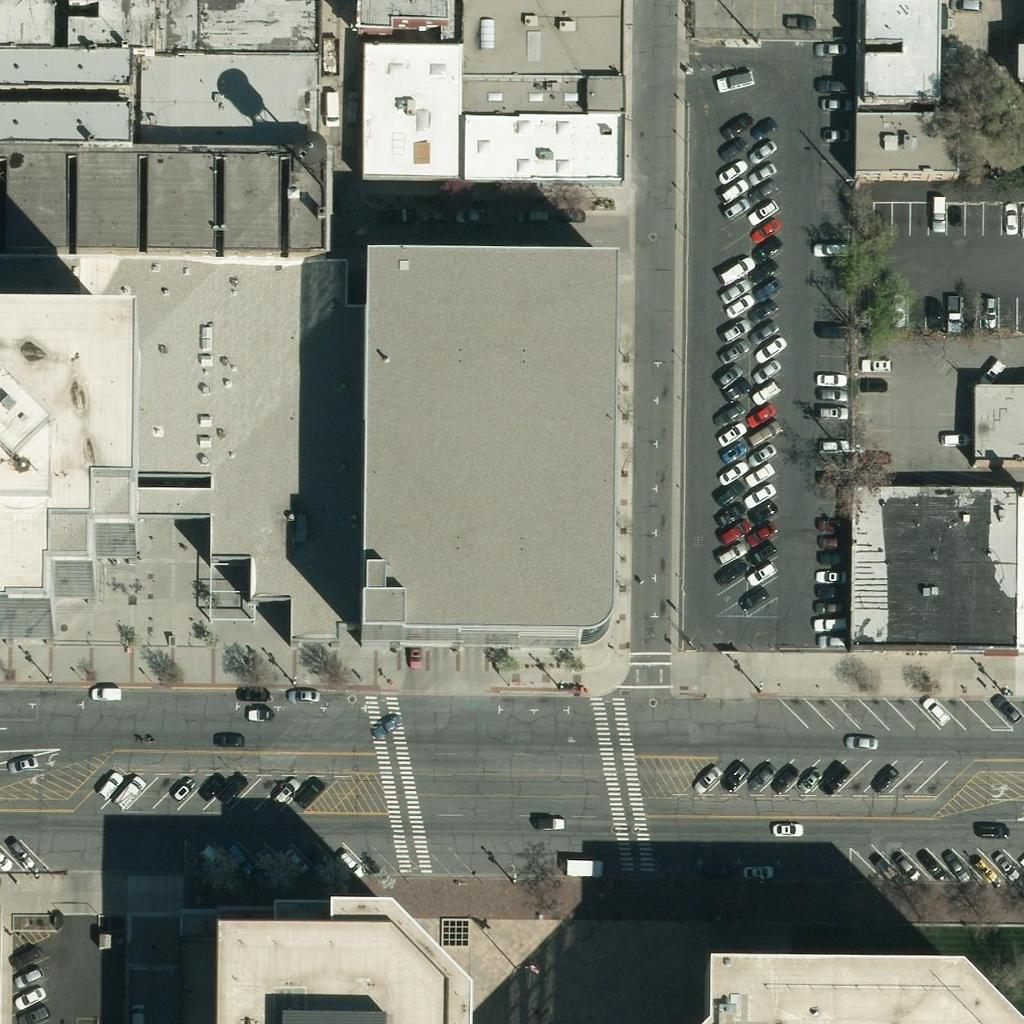car: (783, 4, 817, 38), (813, 31, 847, 65), (717, 62, 751, 96), (817, 67, 851, 101), (817, 86, 851, 120), (333, 87, 367, 121), (312, 92, 346, 126), (746, 109, 780, 143), (717, 110, 751, 144), (820, 116, 854, 150), (713, 132, 747, 166), (743, 133, 777, 167), (714, 153, 748, 187), (744, 154, 778, 188), (716, 173, 750, 207), (745, 173, 779, 207), (719, 190, 753, 224), (747, 192, 781, 226), (551, 196, 585, 230), (418, 197, 452, 231), (518, 197, 552, 231), (937, 197, 971, 231), (381, 198, 415, 232), (458, 198, 492, 232), (922, 198, 956, 232), (748, 211, 782, 245), (749, 230, 783, 264), (813, 231, 847, 265), (719, 252, 753, 286), (744, 254, 778, 288), (748, 271, 782, 305), (718, 272, 752, 306), (722, 287, 756, 321), (744, 292, 778, 326), (880, 292, 914, 326), (972, 295, 1006, 329), (917, 296, 951, 330), (939, 298, 973, 332), (816, 313, 850, 347), (716, 314, 750, 348), (746, 314, 780, 348), (752, 331, 786, 365), (715, 333, 749, 367), (857, 346, 891, 380), (749, 353, 783, 387), (976, 356, 1010, 390), (710, 359, 744, 393), (813, 361, 847, 395), (852, 366, 886, 400), (720, 372, 754, 406), (750, 373, 784, 407), (811, 376, 845, 410), (815, 393, 849, 427), (744, 395, 778, 429), (712, 396, 746, 430), (714, 413, 748, 447), (747, 415, 781, 449), (935, 421, 969, 455), (816, 428, 850, 462), (717, 433, 751, 467), (743, 437, 777, 471), (856, 439, 890, 473), (715, 456, 749, 490), (743, 456, 777, 490), (814, 458, 848, 492), (711, 475, 745, 509), (742, 476, 776, 510), (712, 495, 746, 529), (748, 495, 782, 529), (816, 506, 850, 540), (716, 514, 750, 548), (745, 517, 779, 551), (817, 523, 851, 557), (745, 535, 779, 569), (714, 536, 748, 570), (817, 539, 851, 573), (714, 554, 748, 588), (746, 555, 780, 589), (814, 557, 848, 591), (815, 573, 849, 607), (737, 579, 771, 613), (817, 589, 851, 623), (816, 606, 850, 640), (812, 623, 846, 657), (397, 634, 431, 668), (87, 674, 121, 708), (232, 674, 266, 708), (284, 676, 318, 710), (918, 693, 952, 727), (241, 694, 275, 728), (371, 707, 405, 741), (210, 720, 244, 754), (845, 724, 879, 758), (5, 746, 39, 780), (745, 756, 779, 790), (717, 759, 751, 793), (768, 759, 802, 793), (793, 760, 827, 794), (817, 760, 851, 794), (866, 760, 900, 794), (689, 761, 723, 795), (93, 766, 127, 800), (194, 767, 228, 801), (216, 769, 250, 803), (114, 771, 148, 805), (165, 771, 199, 805), (267, 773, 301, 807), (293, 774, 327, 808), (527, 805, 561, 839), (765, 810, 799, 844), (967, 813, 1001, 847), (3, 836, 37, 870), (200, 840, 234, 874), (221, 842, 255, 876), (276, 842, 310, 876), (331, 846, 365, 880), (889, 849, 923, 883), (914, 849, 948, 883), (989, 850, 1023, 884), (939, 851, 973, 885), (696, 853, 730, 887), (869, 853, 903, 887), (968, 853, 1002, 887), (739, 855, 773, 889), (8, 939, 42, 973), (12, 958, 46, 992), (12, 979, 46, 1013), (993, 201, 1024, 235), (993, 692, 1024, 726), (16, 998, 50, 1024), (120, 1000, 154, 1024), (949, 0, 983, 20)
